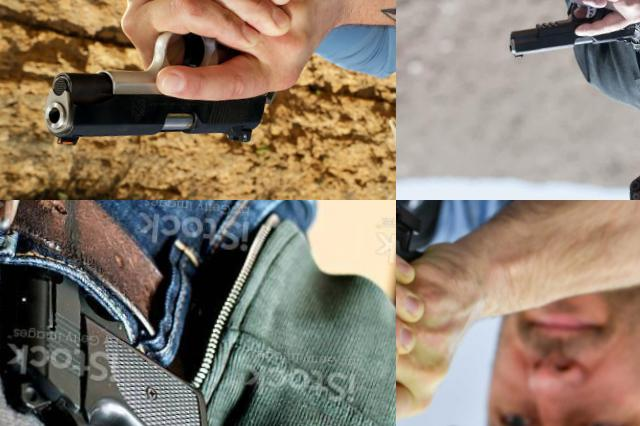handgun: (36, 0, 294, 167), (0, 241, 230, 426), (396, 200, 522, 426), (503, 0, 640, 71)
